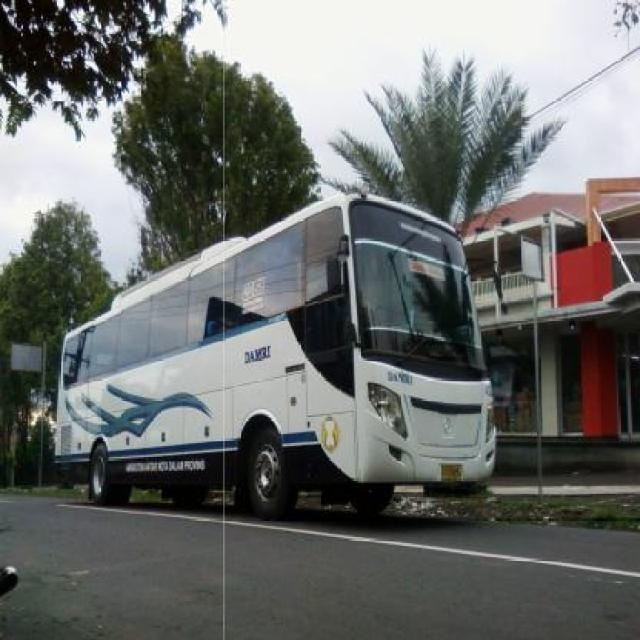Bus: (50, 180, 501, 518)
